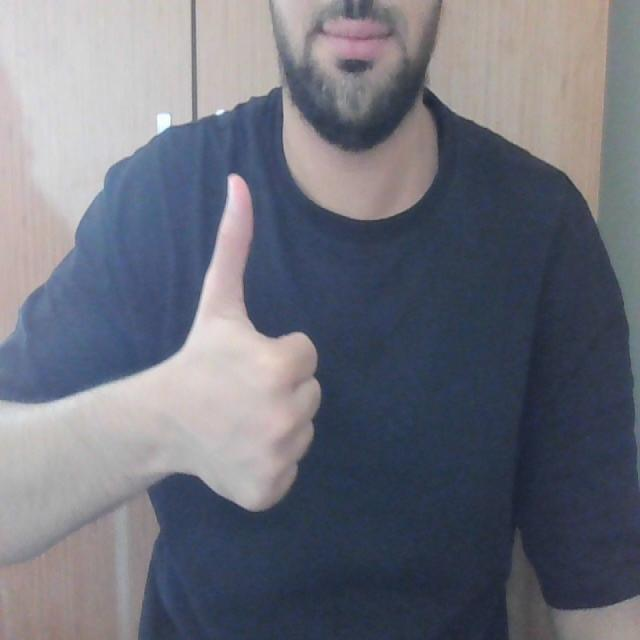Tamam: (156, 165, 328, 521)
